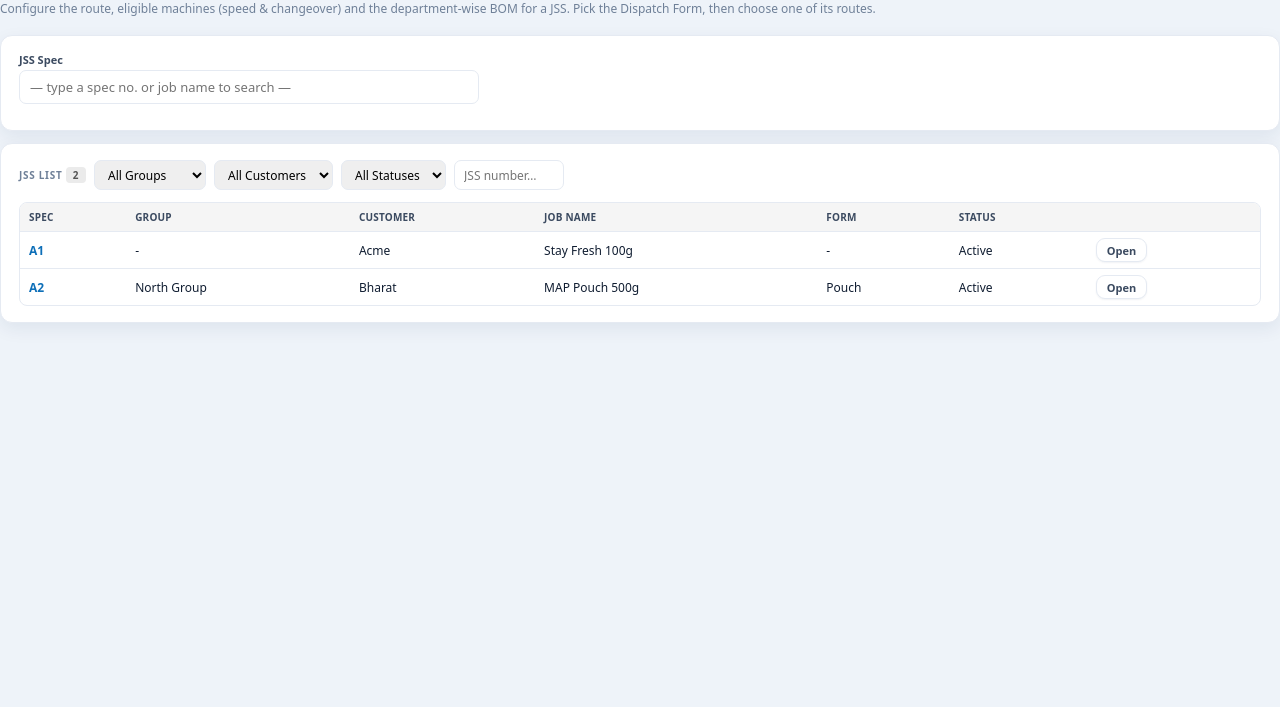
JssPlanningPanel › opens a spec by typing into the search picker
// the suggestion format (case-insensitive) resolves to the spec
Step 1. Type "a2 — map pouch 500g" into the field named "JSS Spec" → x=249, y=87, box [19,70,479,104]
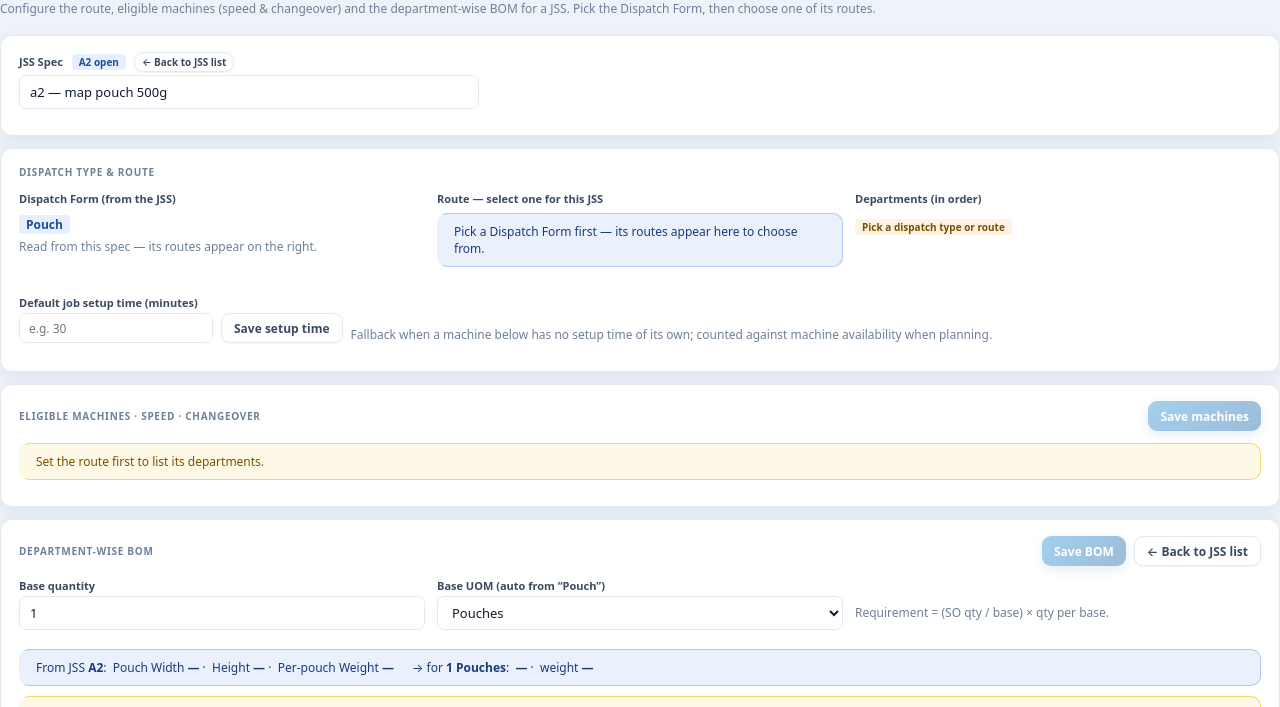
Expected: the text "Dispatch Type & Route" is shown, [19,165,155,179]
Expected: the text "Read from this spec — its routes appear on the right." is shown, [19,238,317,255]
// typing away from the open spec closes it
Step 2. Replace the text in the field named "JSS Spec" with "zzz" → x=249, y=92, box [19,75,479,109]
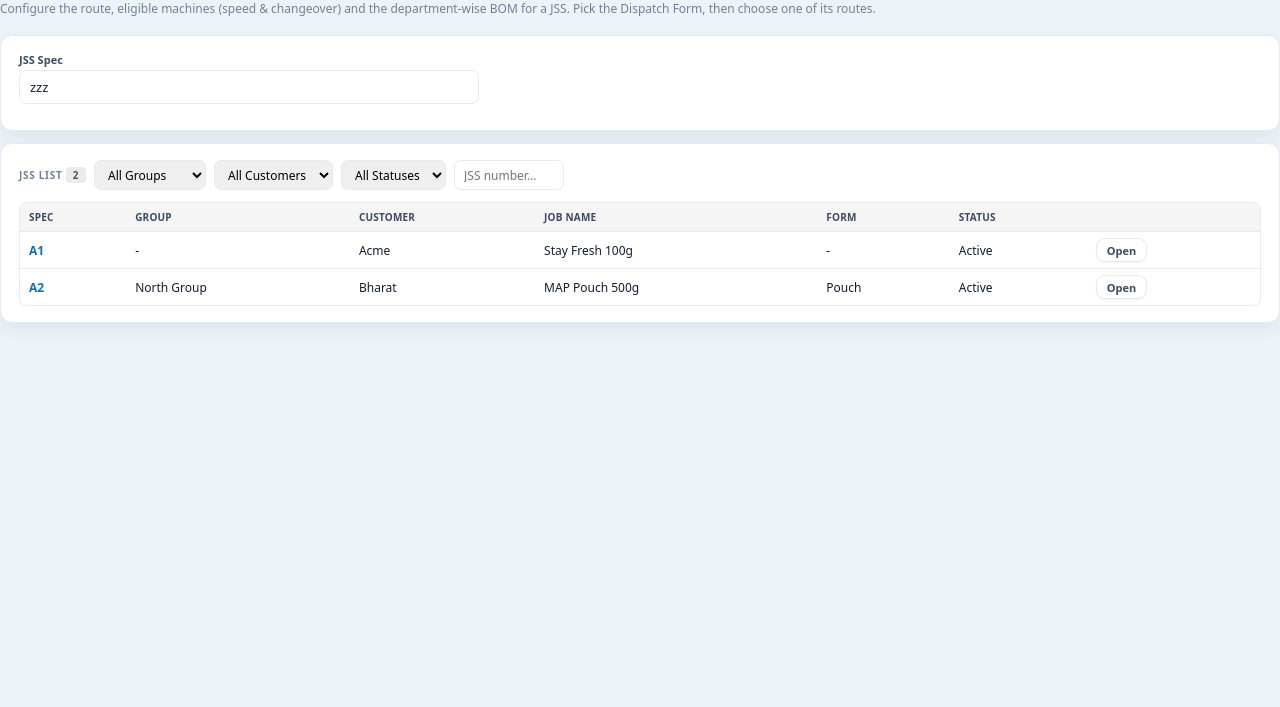
Expected: the text "Dispatch Type & Route" is gone
